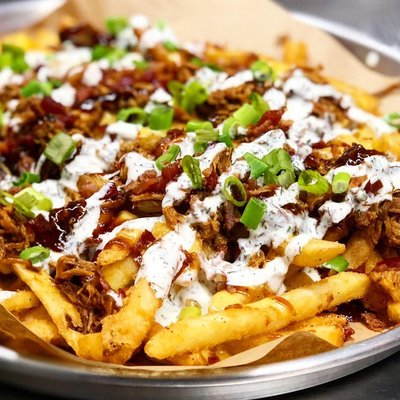sandwich: (1, 5, 400, 397)
